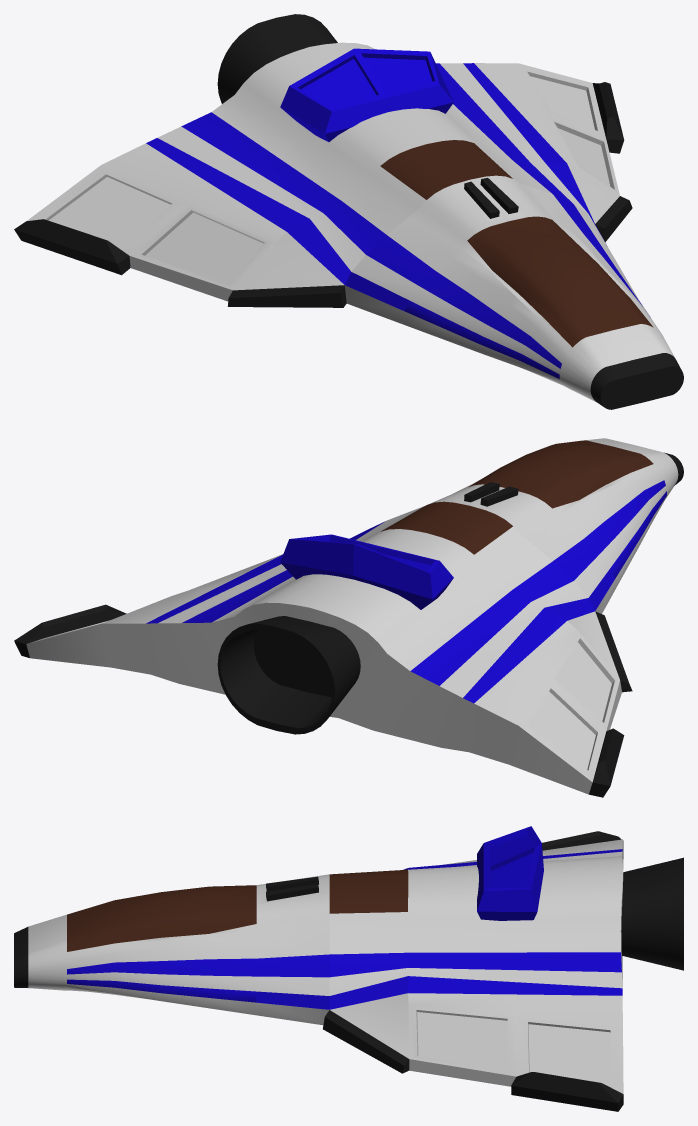
Rendered from ship.fbx.
3 renders of one model, top to bottom at view 1: azimuth 30°, elevation 25°; view 2: azimuth 150°, elevation 25°; view 3: azimuth 270°, elevation 25°, orthographic. The views are drawn at different scales.
Visible parts, largest first — view 1: Pilisos; view 2: Pilisos; view 3: Pilisos.
Part boxes in pixels (bbox=[...]): Pilisos: bbox=[14, 14, 683, 409]; Pilisos: bbox=[14, 438, 683, 797]; Pilisos: bbox=[14, 826, 683, 1111].
Size of the model in its own units: 951 by 234 by 1010.
